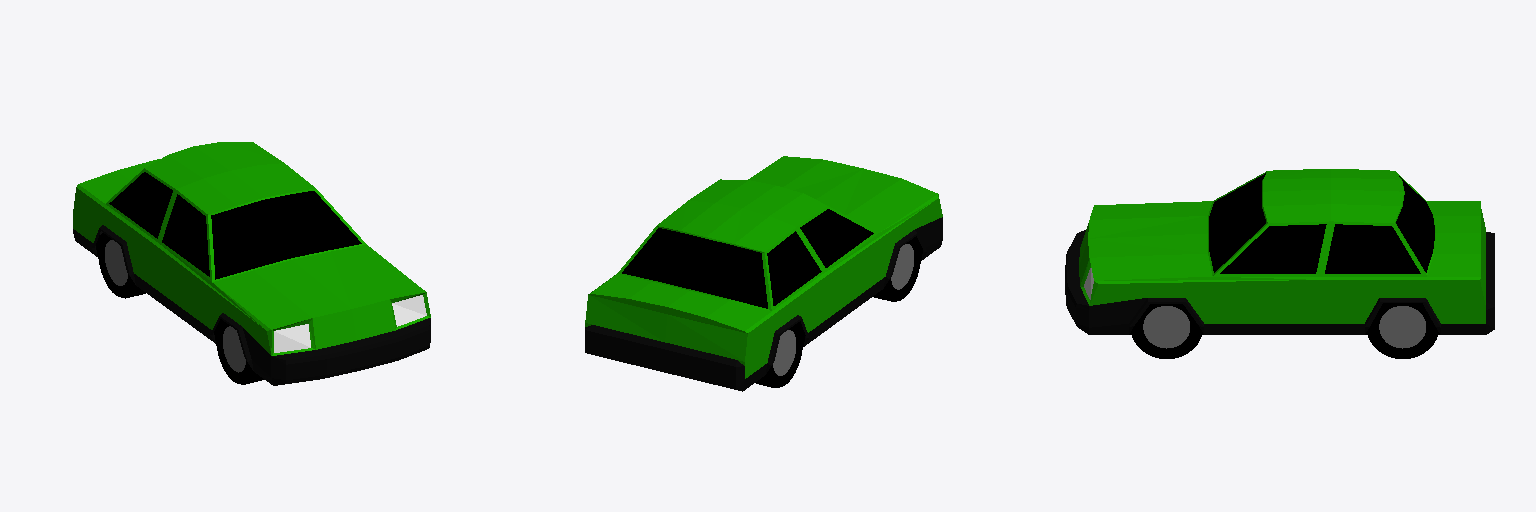
File: Car4.obj
The picture shows the model from 3 angles: view 1: azimuth 30°, elevation 25°; view 2: azimuth 150°, elevation 25°; view 3: azimuth 270°, elevation 25°; orthographic projection.
Parts seen in each view (by area): view 1: Car_Cube; view 2: Car_Cube; view 3: Car_Cube.
Boxes of the visible parts, box(x1,y1,x2,y2) form: Car_Cube: box(73, 142, 430, 385); Car_Cube: box(585, 156, 942, 391); Car_Cube: box(1065, 169, 1494, 358).
Bounding box in the file's own units: 2.1 × 1.59 × 4.67.